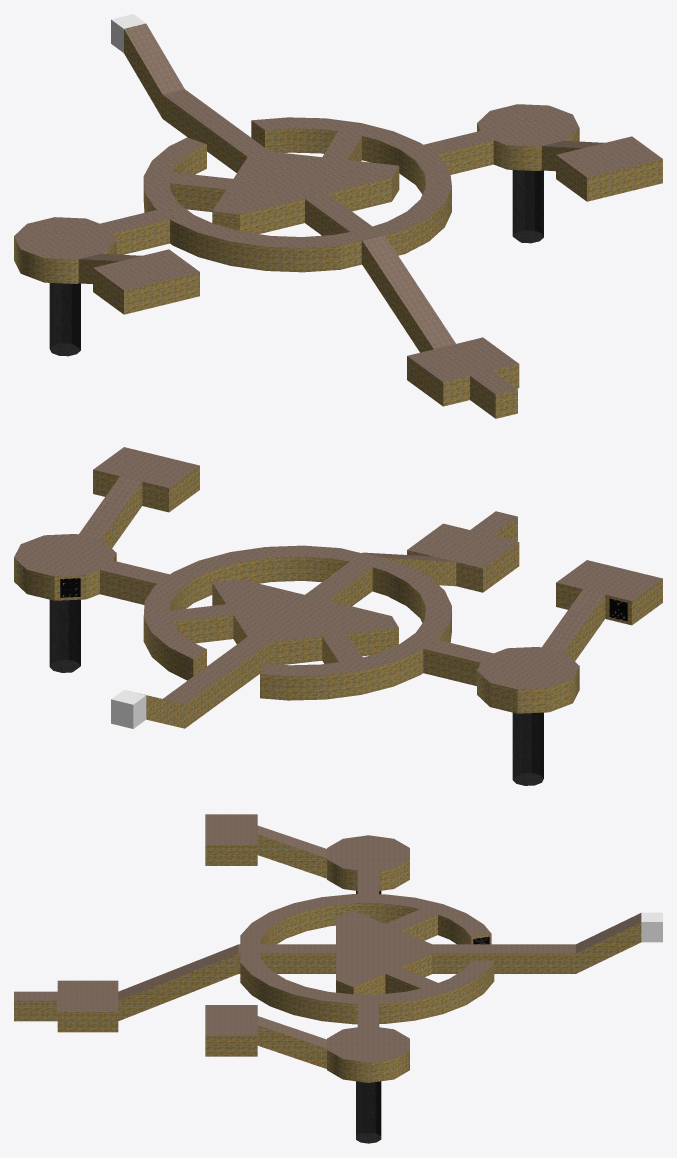
Rendered from tomb.obj.
The picture shows the model from 3 angles, top to bottom: view 1: azimuth 30°, elevation 25°; view 2: azimuth 150°, elevation 25°; view 3: azimuth 270°, elevation 25°; orthographic projection. The views are drawn at different scales.
Visible parts, largest first — view 1: SketchUp.001_ID18, SketchUp_ID3, SketchUp.008_ID98, SketchUp.009_ID108, SketchUp.039_ID438, SketchUp.037_ID418, SketchUp.007_ID88; view 2: SketchUp.001_ID18, SketchUp_ID3, SketchUp.009_ID108, SketchUp.008_ID98, SketchUp.039_ID438, SketchUp.037_ID418, SketchUp.007_ID88; view 3: SketchUp.001_ID18, SketchUp_ID3, SketchUp.009_ID108, SketchUp.008_ID98, SketchUp.037_ID418, SketchUp.007_ID88.
Boxes of the visible parts, <box> form: SketchUp.001_ID18: <box>14,23,662,394</box>; SketchUp_ID3: <box>14,29,662,418</box>; SketchUp.008_ID98: <box>170,183,349,235</box>; SketchUp.009_ID108: <box>327,136,425,211</box>; SketchUp.039_ID438: <box>49,283,80,356</box>; SketchUp.037_ID418: <box>512,170,543,243</box>; SketchUp.007_ID88: <box>111,14,145,52</box>; SketchUp.001_ID18: <box>14,447,662,704</box>; SketchUp_ID3: <box>14,466,662,728</box>; SketchUp.009_ID108: <box>170,556,349,610</box>; SketchUp.008_ID98: <box>327,567,425,656</box>; SketchUp.039_ID438: <box>512,712,543,785</box>; SketchUp.037_ID418: <box>49,599,80,672</box>; SketchUp.007_ID88: <box>111,690,146,728</box>; SketchUp.001_ID18: <box>14,814,641,1062</box>; SketchUp_ID3: <box>14,835,641,1082</box>; SketchUp.009_ID108: <box>260,953,419,994</box>; SketchUp.008_ID98: <box>260,903,419,944</box>; SketchUp.037_ID418: <box>356,1081,381,1143</box>; SketchUp.007_ID88: <box>641,912,662,942</box>.
Bounding box in the file's own units: 61.81 × 15.9 × 74.59.
Materials: 11 (9 with a texture image).
